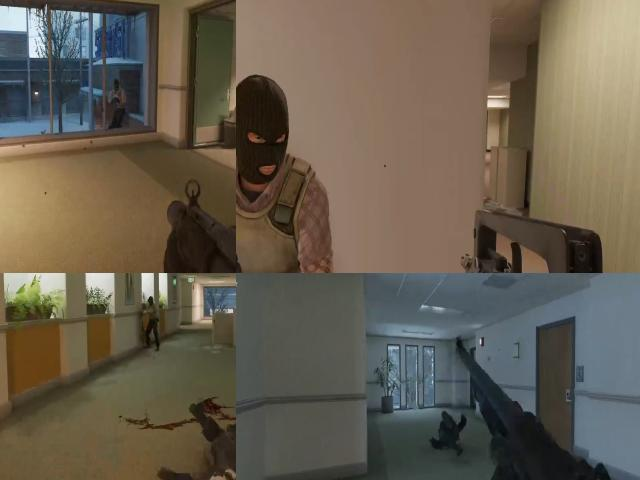Dead: (175, 409, 236, 480), (429, 410, 468, 454)
T: (236, 64, 335, 273), (143, 290, 161, 330)
T-Head: (236, 69, 299, 201), (112, 74, 126, 120), (113, 75, 123, 95), (148, 295, 156, 311)
